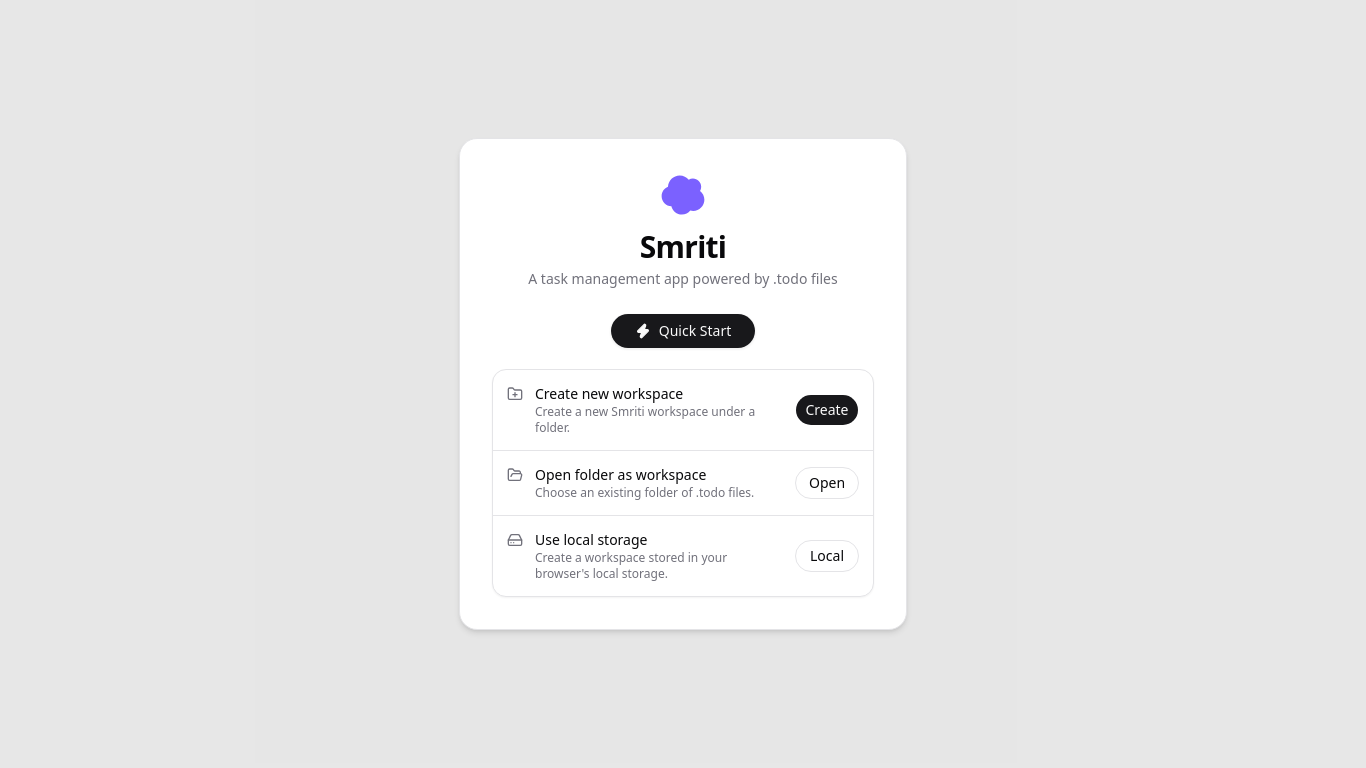
Test: WorkspacePicker › disables create button when workspace name is empty
Click the button "Local": x=827, y=556 [795,540,859,572]
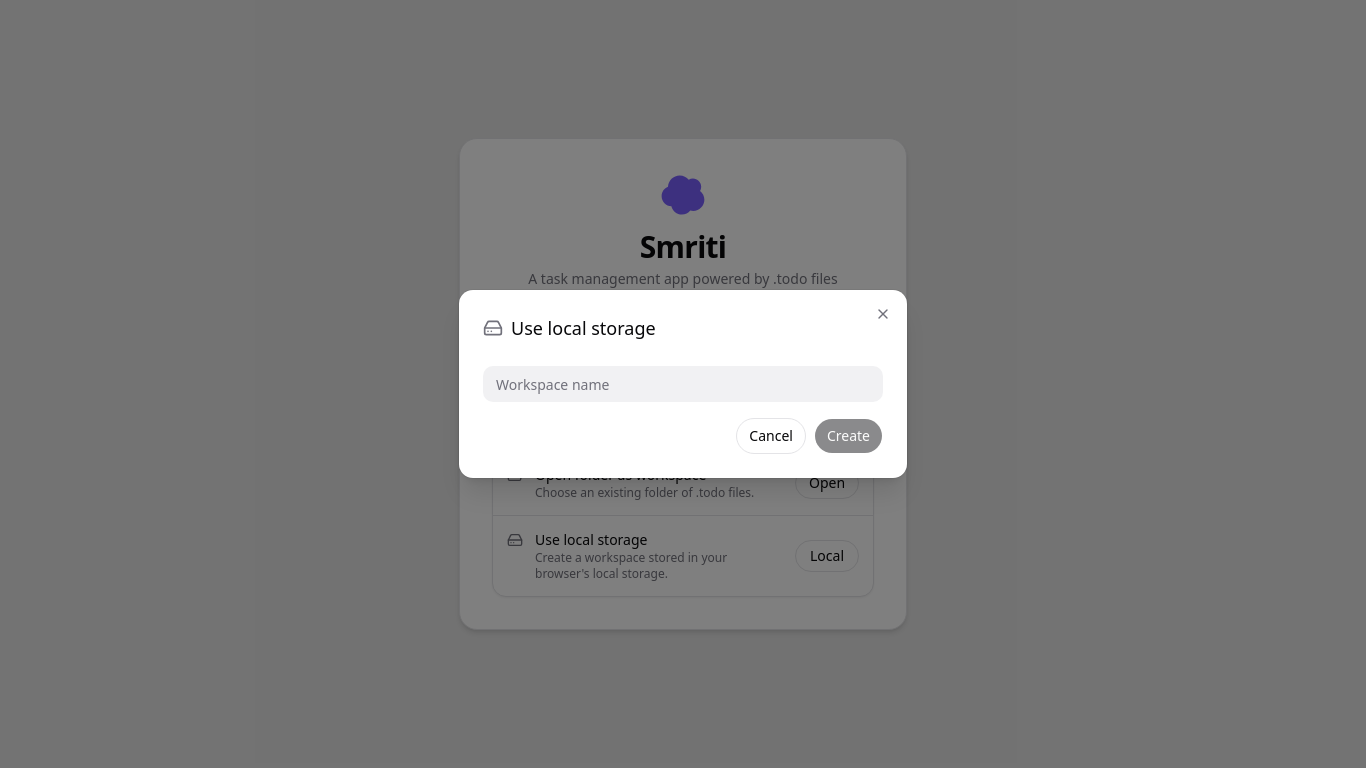
Expected: the button "Create" is disabled, [814,418,883,454]
In the field with placeholder "Workspace name": x=683, y=384 [483,366,883,402], type "My Local Workspace"
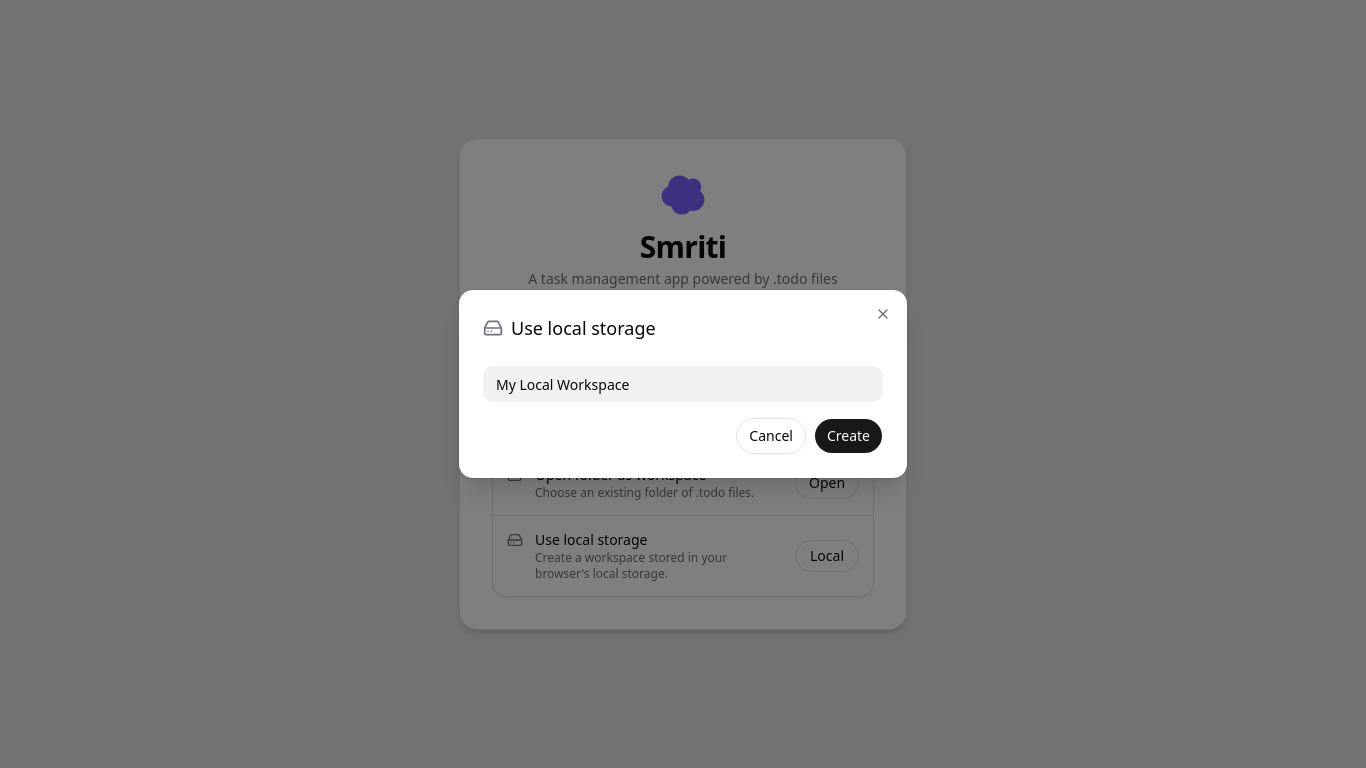
Expected: the button "Create" is enabled, [814,418,883,454]
